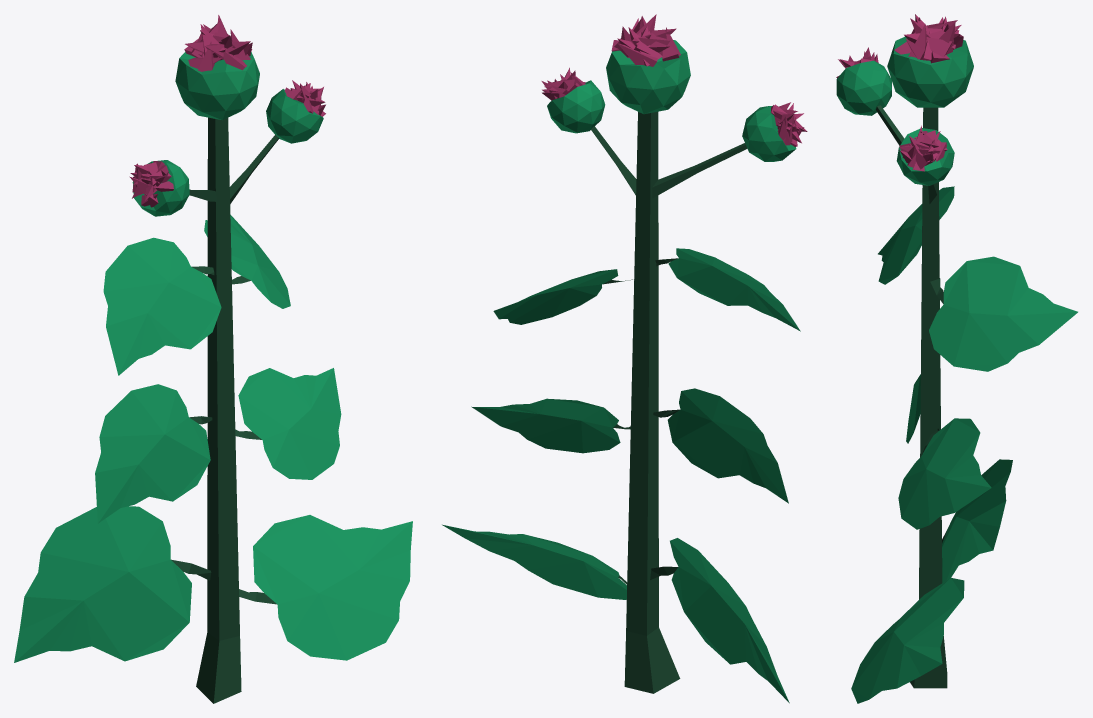
File: Burdrock.fbx
3 renders of one model, left to right at view 1: azimuth 30°, elevation 25°; view 2: azimuth 150°, elevation 25°; view 3: azimuth 270°, elevation 25°, orthographic.
Visible parts, largest first — view 1: Burdrock_LOD0; view 2: Burdrock_LOD0; view 3: Burdrock_LOD0.
Part boxes in pixels (<box>): Burdrock_LOD0: <box>14,15,412,703</box>; Burdrock_LOD0: <box>442,14,807,703</box>; Burdrock_LOD0: <box>836,14,1077,703</box>.
Size of what is drawn, in the model's own units: 116 by 197 by 65.11.
